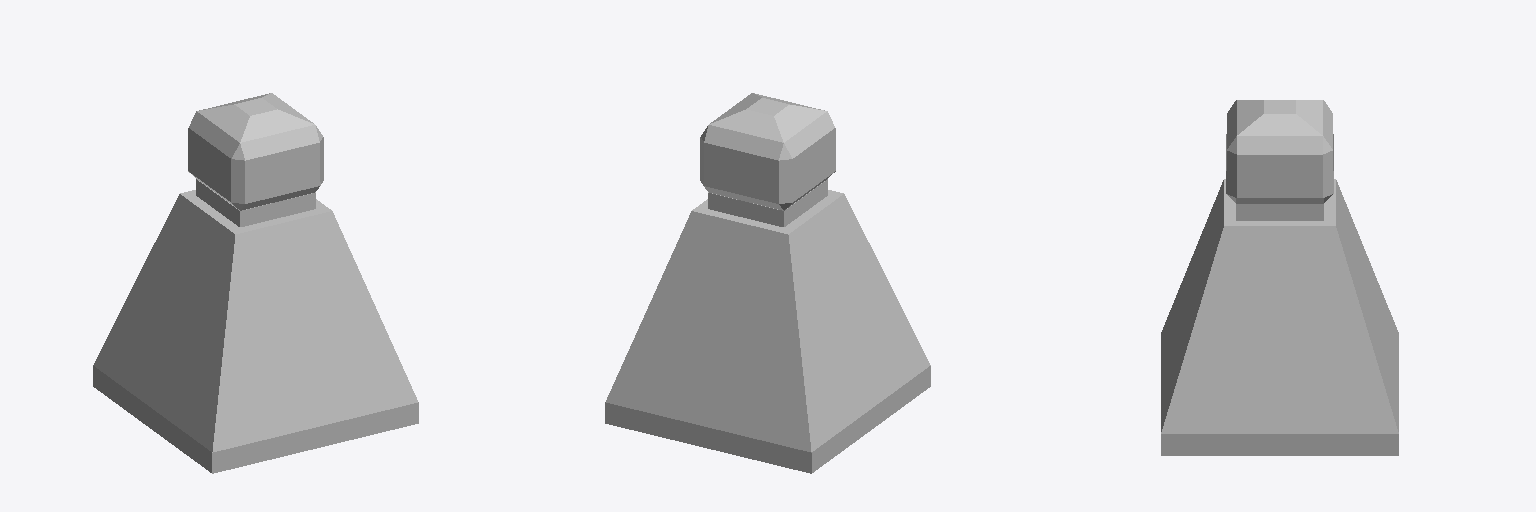
Rendered from king.obj.
3 renders of one model, left to right at view 1: azimuth 30°, elevation 25°; view 2: azimuth 150°, elevation 25°; view 3: azimuth 270°, elevation 25°, orthographic.
Parts seen in each view (by area): view 1: Cube; view 2: Cube; view 3: Cube.
Boxes of the visible parts, box(x1,y1,x2,y2) form: Cube: box(93, 93, 418, 473); Cube: box(605, 93, 930, 473); Cube: box(1161, 100, 1398, 455).
Size of the model in its own units: 1.38 by 1.91 by 1.38.